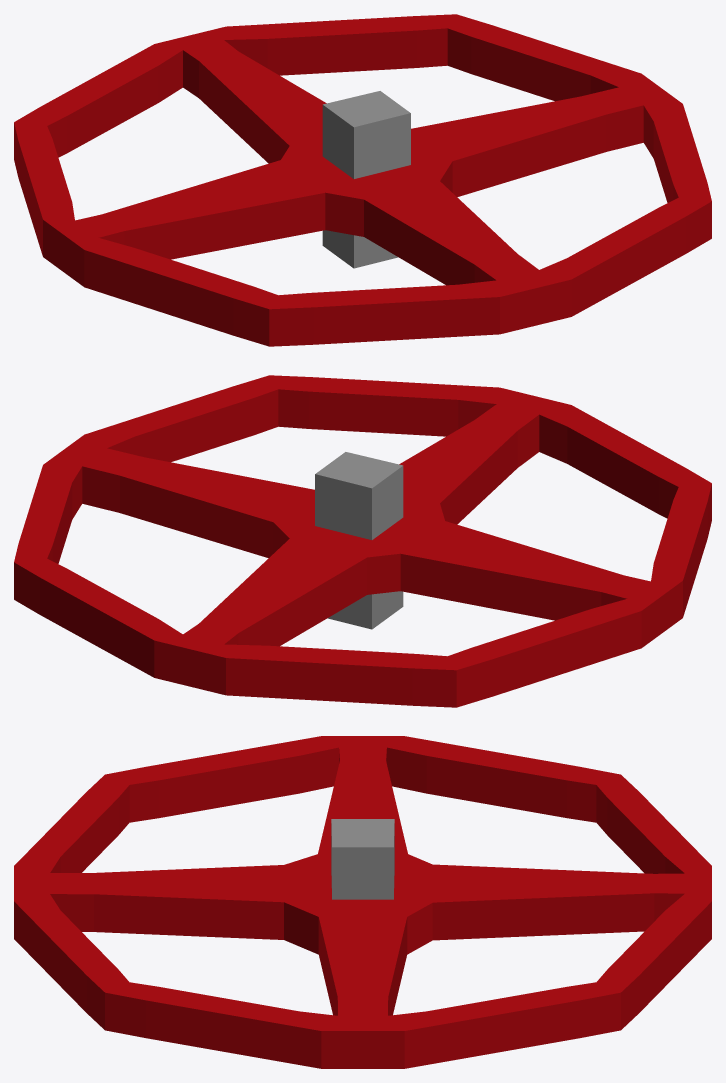
The model's file is valve.glb.
The picture shows the model from 3 angles, top to bottom: view 1: azimuth 30°, elevation 25°; view 2: azimuth 150°, elevation 25°; view 3: azimuth 270°, elevation 25°; orthographic projection.
Parts seen in each view (by area): view 1: valve; view 2: valve; view 3: valve.
Boxes of the visible parts, left/top/right/bottom form: valve: left=14, top=14, right=711, bottom=346; valve: left=14, top=375, right=711, bottom=707; valve: left=14, top=736, right=711, bottom=1068.
Size of the model in its own units: 0.6024 by 0.1358 by 0.6024.
